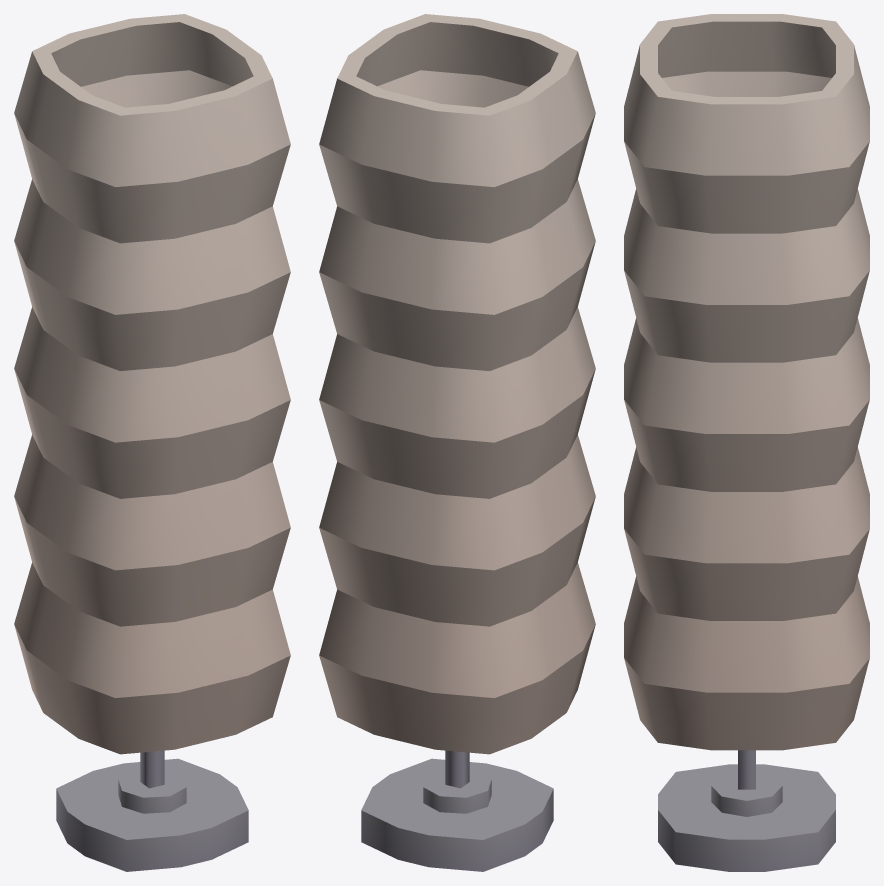
The model's file is lamp-long-standing-wiggle-style-a.glb.
3 views of the same model, side by side, from view 1: azimuth 30°, elevation 25°; view 2: azimuth 150°, elevation 25°; view 3: azimuth 270°, elevation 25° (orthographic).
Parts seen in each view (by area): view 1: lamp-long-standing-wiggle-style-a; view 2: lamp-long-standing-wiggle-style-a; view 3: lamp-long-standing-wiggle-style-a.
Boxes of the visible parts, x1,y1,x2,y2 form: lamp-long-standing-wiggle-style-a: (14, 14, 290, 871); lamp-long-standing-wiggle-style-a: (319, 14, 595, 871); lamp-long-standing-wiggle-style-a: (624, 14, 869, 871).
Size of the model in its own units: 0.345 by 1.2 by 0.345.
